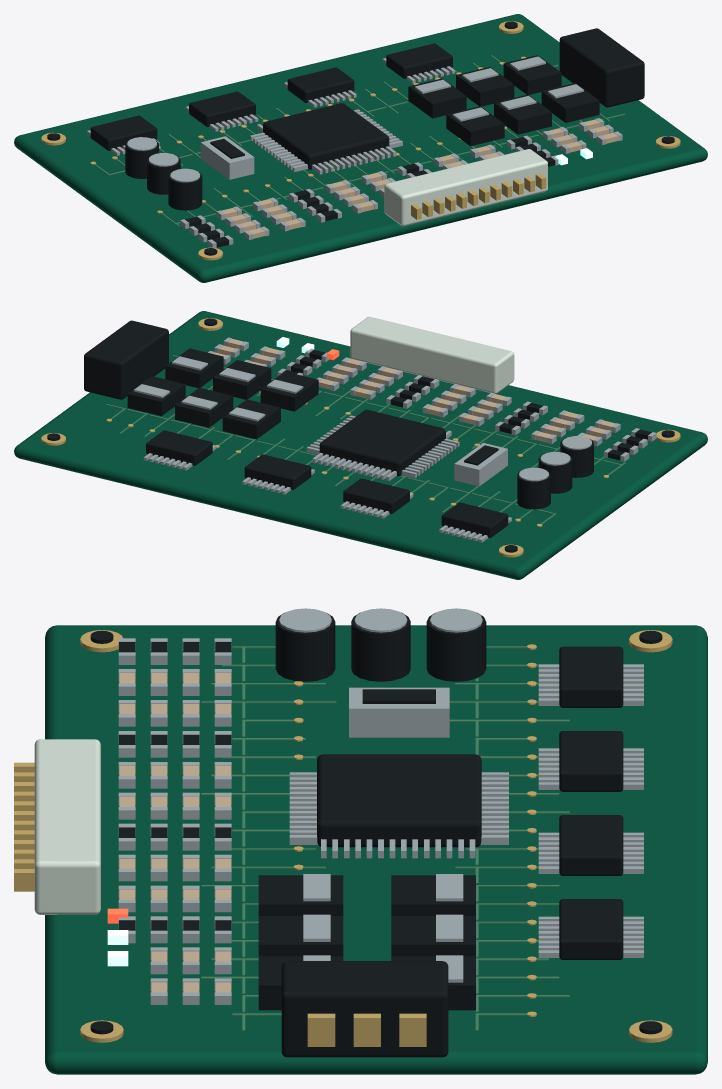
The model's file is pcb.glb.
3 views of the same model, one above another, from view 1: azimuth 30°, elevation 25°; view 2: azimuth 150°, elevation 25°; view 3: azimuth 270°, elevation 25° (orthographic). The views are drawn at different scales.
Parts seen in each view (by area): view 1: Barak_pcb; view 2: Barak_pcb; view 3: Barak_pcb.
Part boxes in pixels (x1,y1,x2,y2): Barak_pcb: [14, 14, 707, 282]; Barak_pcb: [14, 311, 707, 579]; Barak_pcb: [14, 608, 707, 1074].
Bounding box in the file's own units: 4.57 × 0.4249 × 3.04.
